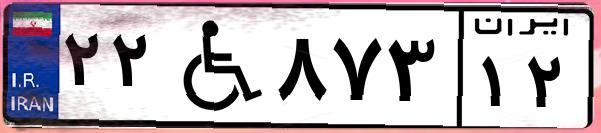1: (475, 38, 525, 113)
2: (57, 26, 110, 100), (525, 38, 570, 115), (110, 28, 158, 98)
3: (385, 28, 445, 110)
7: (330, 28, 385, 110)
8: (270, 28, 330, 110)
ژ (معلولین و جانبازان): (158, 12, 270, 120)
